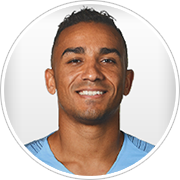smile: (74, 85, 109, 100)
